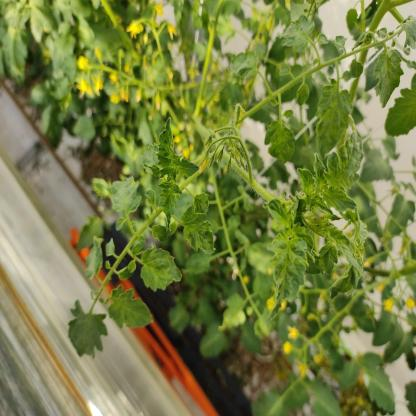T_L_R: (269, 232, 309, 319), (325, 131, 364, 191), (142, 244, 183, 292), (181, 207, 216, 255), (159, 181, 182, 226), (158, 118, 177, 168)
